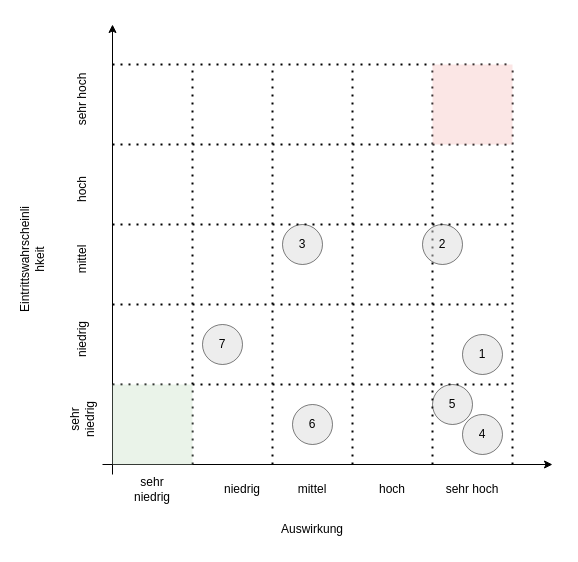
This 578x562 diagram has some shape labels left out. The centre of each missing label's shape, as x and y in pixels:
"Eskalations-bereich" belongs at point (472, 104).
"Risiko-toleranz-bereich" belongs at point (152, 424).
